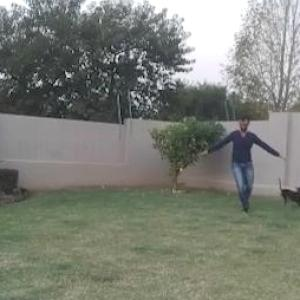land: (186, 105, 276, 213)
